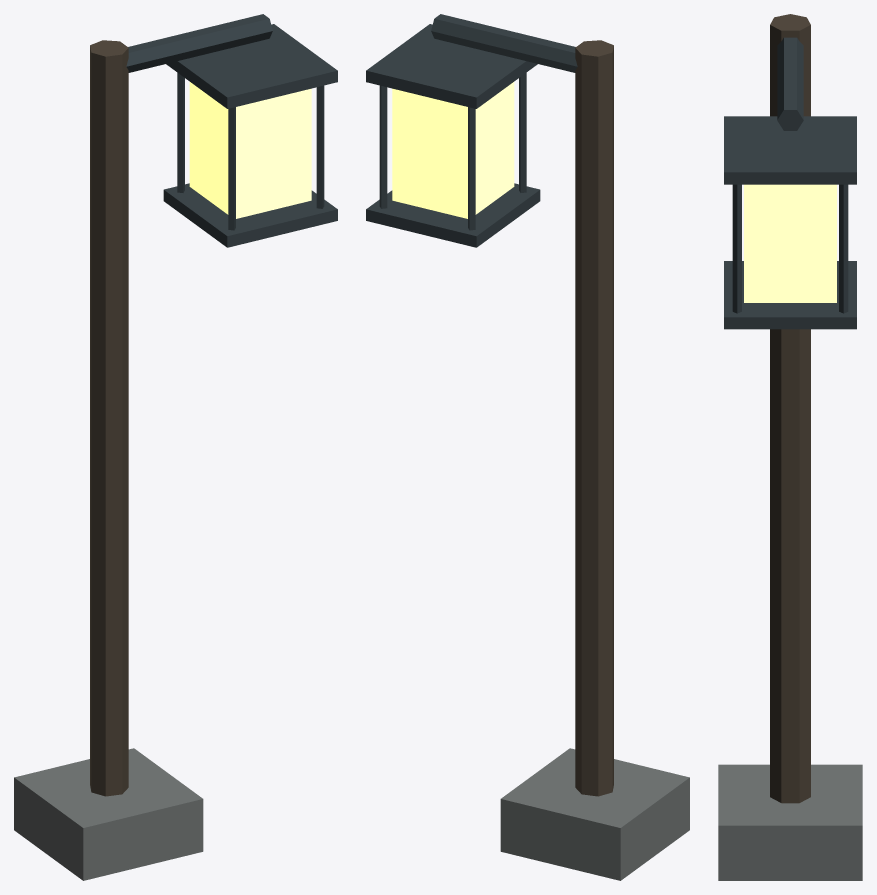
The model's file is PRP_06_Lamppost.glb.
The picture shows the model from 3 angles, left to right: view 1: azimuth 30°, elevation 25°; view 2: azimuth 150°, elevation 25°; view 3: azimuth 270°, elevation 25°; orthographic projection. The views are drawn at different scales.
Parts seen in each view (by area): view 1: PRP_06_Lamppost; view 2: PRP_06_Lamppost; view 3: PRP_06_Lamppost.
Boxes of the visible parts, <box> form: PRP_06_Lamppost: <box>14,14,337,880</box>; PRP_06_Lamppost: <box>366,14,689,880</box>; PRP_06_Lamppost: <box>718,14,862,880</box>.
Bounding box in the file's own units: 0.815 × 2.4 × 0.38.
